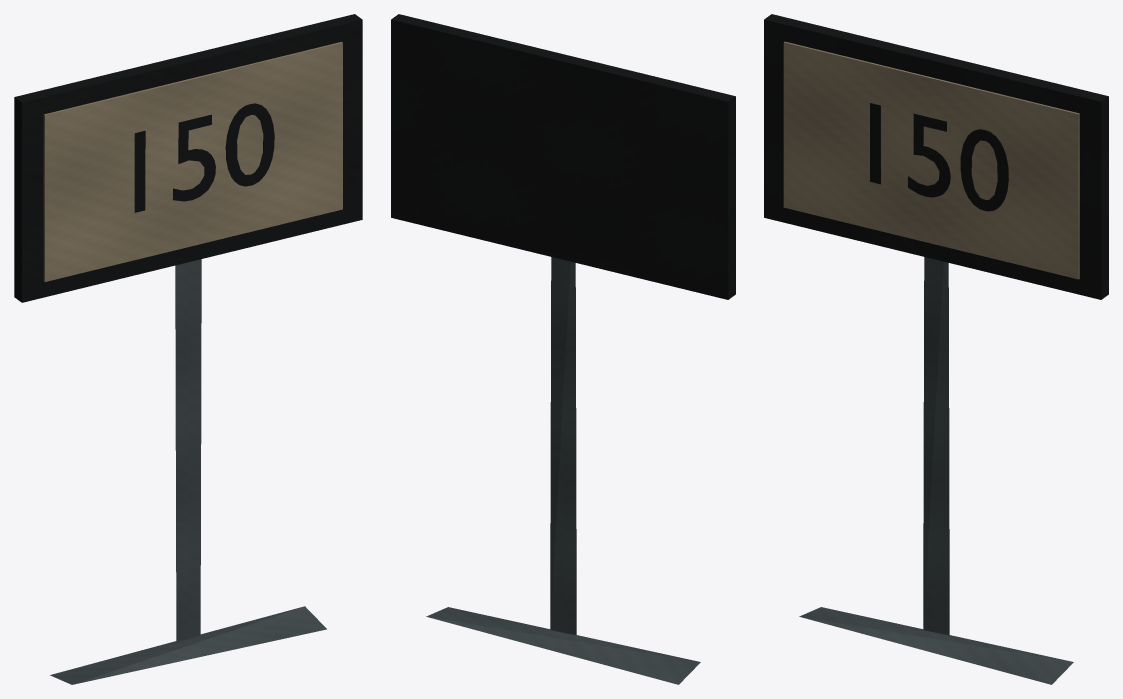
Rendered from braking-board-150-lod.glb.
The picture shows the model from 3 angles, left to right: view 1: azimuth 30°, elevation 25°; view 2: azimuth 150°, elevation 25°; view 3: azimuth 330°, elevation 25°; orthographic projection.
Visible parts, largest first — view 1: braking-board-150-distance-board_2, braking-board-150-distance-board_1, braking-board-150-distance-board_0, distance-150; view 2: braking-board-150-distance-board_1, braking-board-150-distance-board_0; view 3: braking-board-150-distance-board_2, braking-board-150-distance-board_1, braking-board-150-distance-board_0, distance-150.
Boxes of the visible parts, x1,y1,x2,y2 form: braking-board-150-distance-board_2: (43, 42, 342, 281); braking-board-150-distance-board_1: (14, 14, 362, 302); braking-board-150-distance-board_0: (50, 259, 326, 684); distance-150: (134, 103, 274, 212); braking-board-150-distance-board_1: (391, 14, 735, 299); braking-board-150-distance-board_0: (426, 257, 700, 684); braking-board-150-distance-board_2: (783, 41, 1079, 279); braking-board-150-distance-board_1: (764, 14, 1108, 299); braking-board-150-distance-board_0: (799, 257, 1073, 684); distance-150: (870, 103, 1008, 211).
Size of the model in its own units: 1.05 by 1.75 by 0.12.
3 materials, 3 textured.
